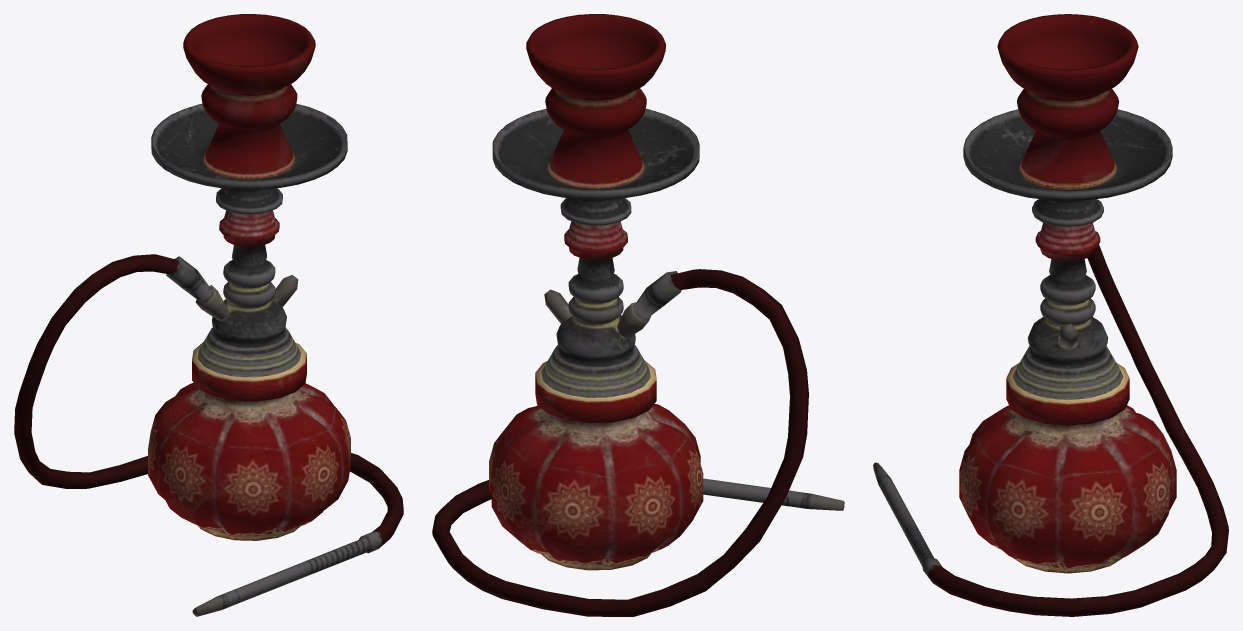
Rendered from hookah_qwert.glb.
3 renders of one model, left to right at view 1: azimuth 30°, elevation 25°; view 2: azimuth 150°, elevation 25°; view 3: azimuth 270°, elevation 25°, orthographic. The views are drawn at different scales.
Visible parts, largest first — view 1: defaultMaterial; view 2: defaultMaterial; view 3: defaultMaterial.
Boxes of the visible parts, <box> form: defaultMaterial: <box>14,14,403,616</box>; defaultMaterial: <box>432,14,844,616</box>; defaultMaterial: <box>873,14,1228,616</box>.
Bounding box in the file's own units: 1.49 × 1.94 × 1.24.
Materials: 1 (1 with a texture image).
